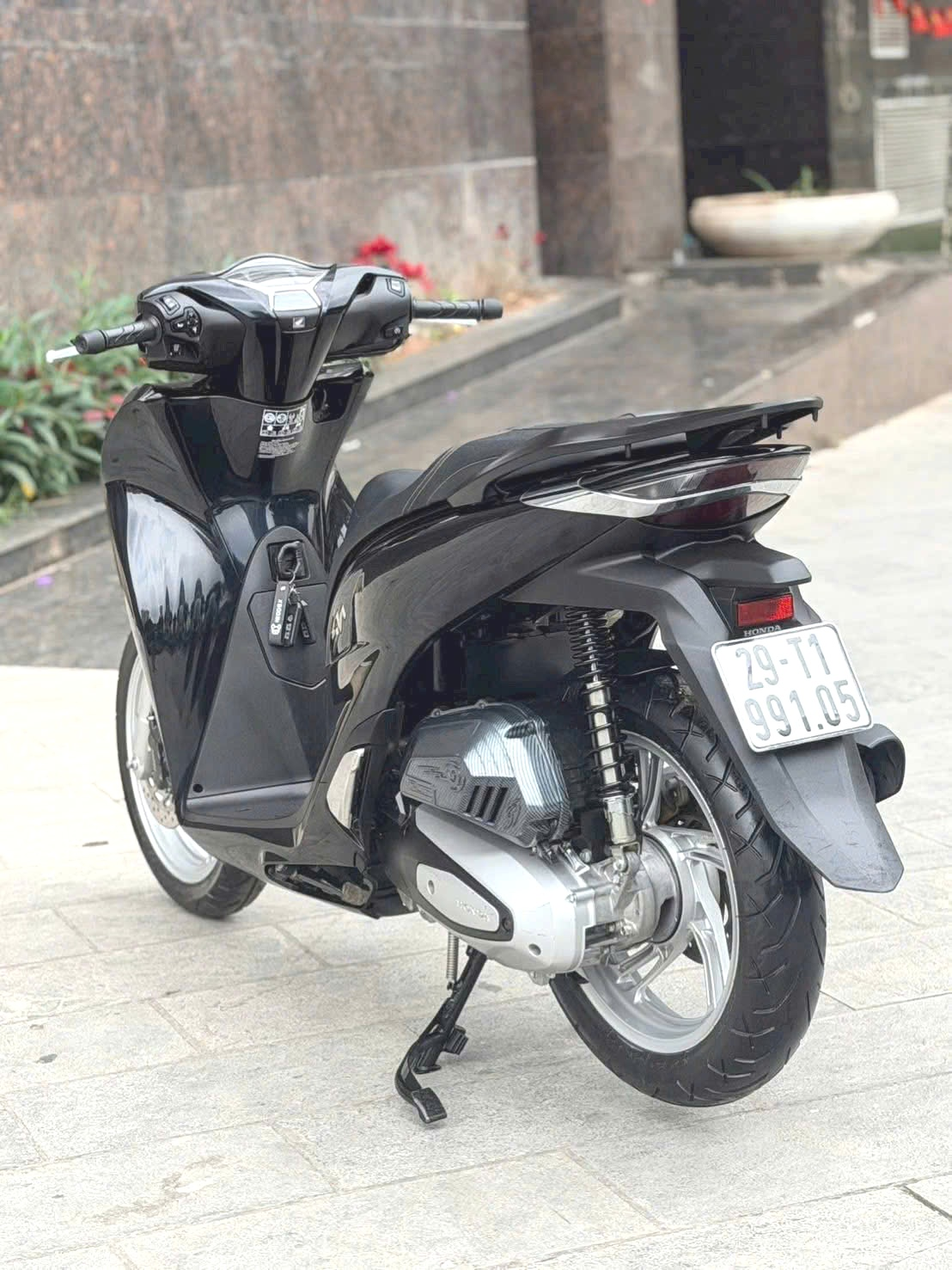Bien-so: (710, 613, 883, 773)
